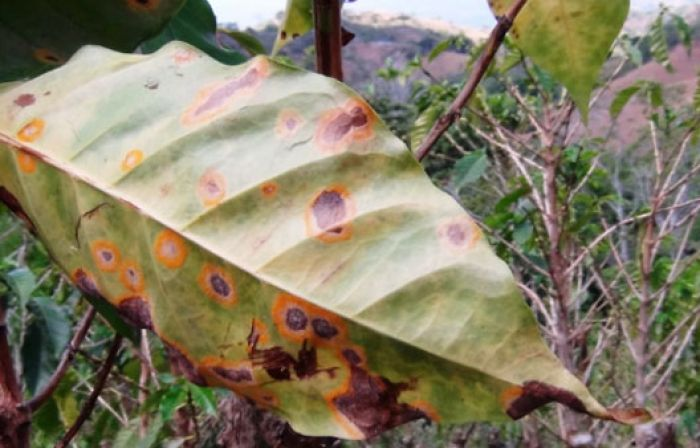roya: (75, 56, 407, 200), (62, 206, 254, 307)
